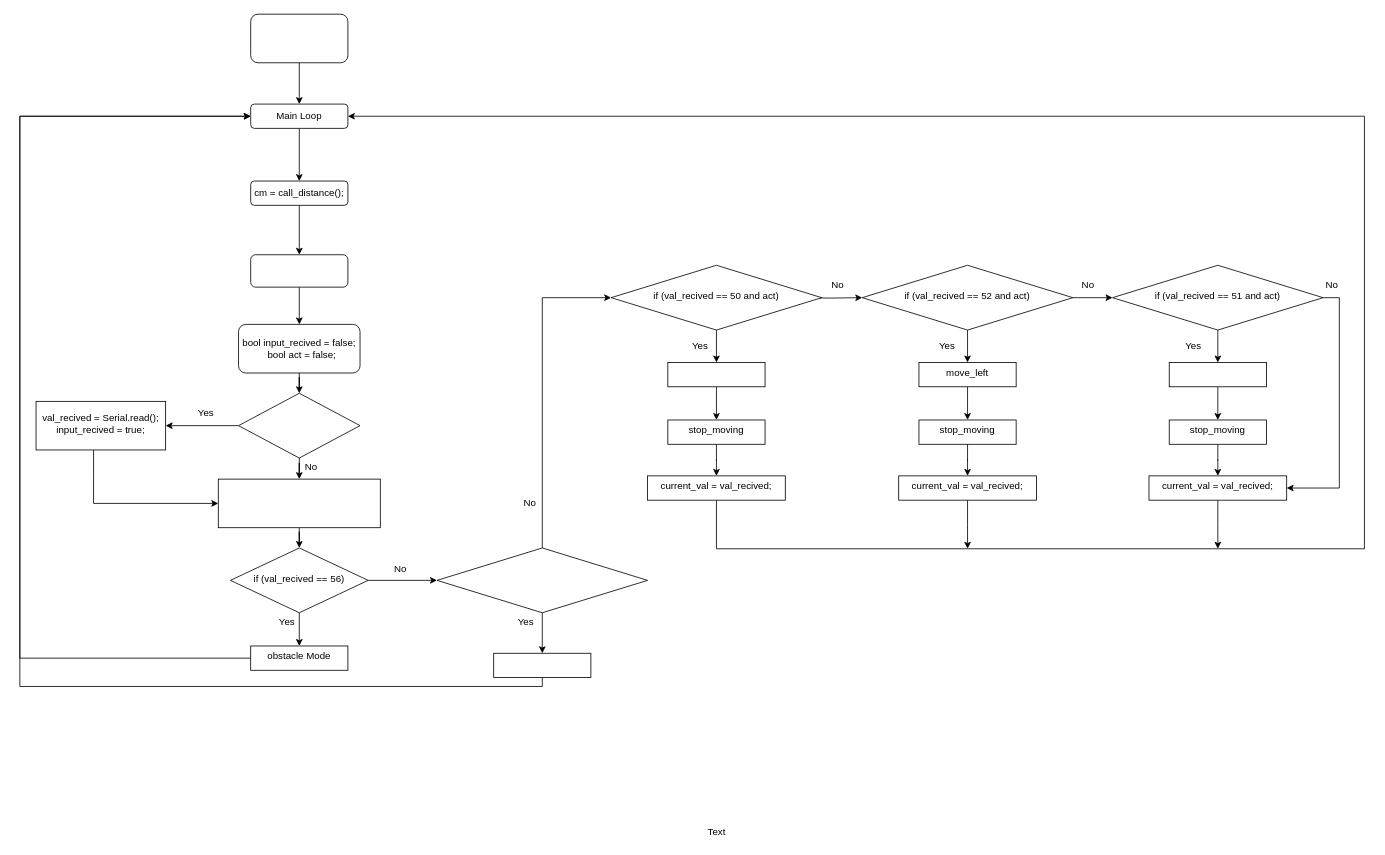
Image size: 1385x855. Some labels were removed from this diagram. The centre of each missing label's shape, as x and y in pixels:
"act = (val_recived != current_val) or input_recived ;" belongs at (x=298, y=503).
"bluetooth();" belongs at (x=299, y=270).
"if ( val_recived == 49 and cm >= 100)" belongs at (x=542, y=580).
"int current_val = 0; int val_recived = 0; long cm = 0;" belongs at (x=299, y=38).
"move_backward" belongs at (x=716, y=374).
"move_forward" belongs at (x=542, y=665).
"move_right" belongs at (x=1217, y=374).
"Serial.available() > 0" belongs at (x=299, y=425).
